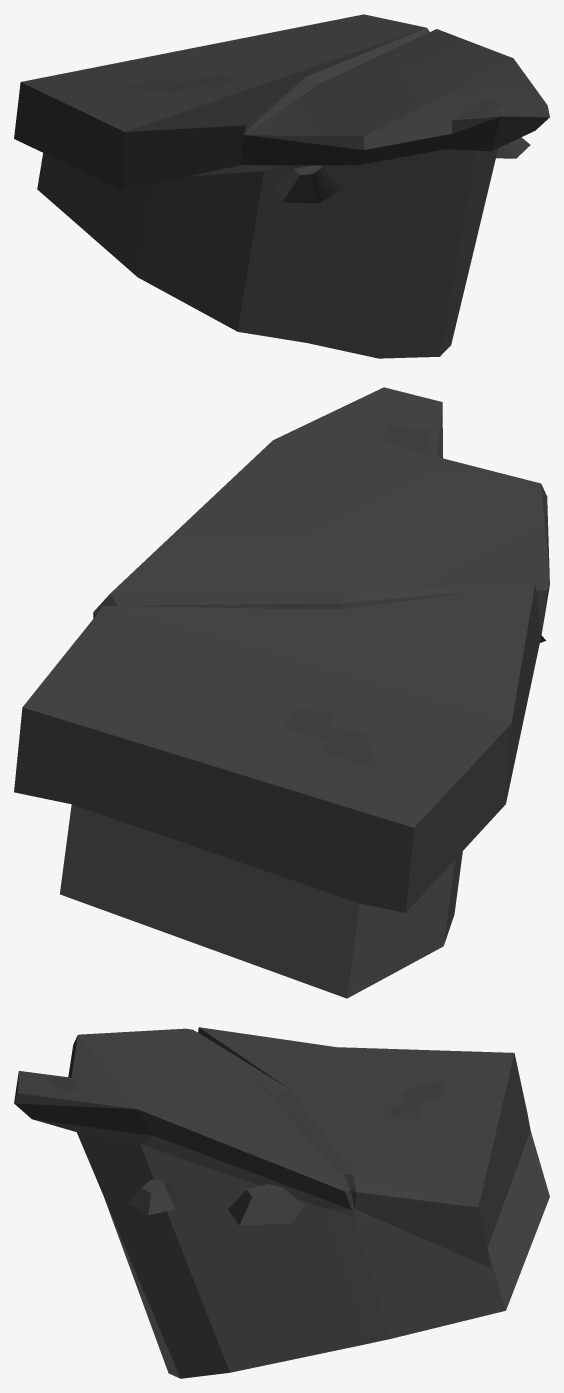
The model's file is SM_Env_RoadPiece_Damaged_12.glb.
The picture shows the model from 3 angles, top to bottom: view 1: azimuth 30°, elevation 25°; view 2: azimuth 150°, elevation 25°; view 3: azimuth 270°, elevation 25°; orthographic projection. The views are drawn at different scales.
Visible parts, largest first — view 1: SM_Env_RoadPiece_Damaged_12; view 2: SM_Env_RoadPiece_Damaged_12; view 3: SM_Env_RoadPiece_Damaged_12.
Boxes of the visible parts, x1,y1,x2,y2 form: SM_Env_RoadPiece_Damaged_12: (14, 14, 549, 358); SM_Env_RoadPiece_Damaged_12: (14, 387, 549, 998); SM_Env_RoadPiece_Damaged_12: (14, 1027, 549, 1378).
Size of the model in its own units: 1.48 by 1.21 by 1.99.
1 material, 1 textured.
